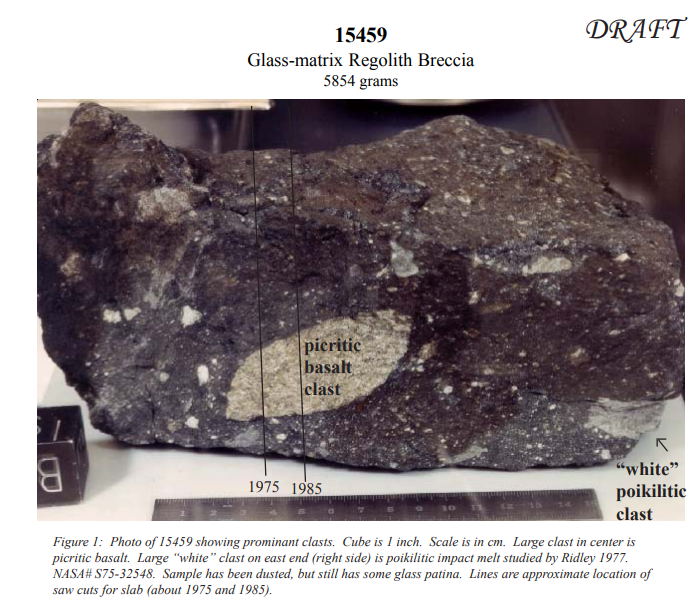Breccia: (49, 107, 663, 468)
